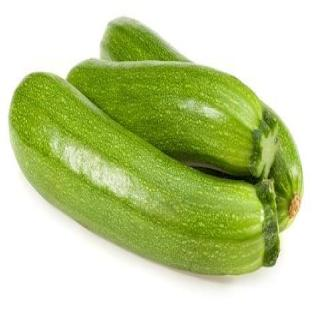Zucchini: (10, 74, 279, 273), (68, 59, 277, 177), (270, 111, 303, 230), (101, 17, 186, 61)
